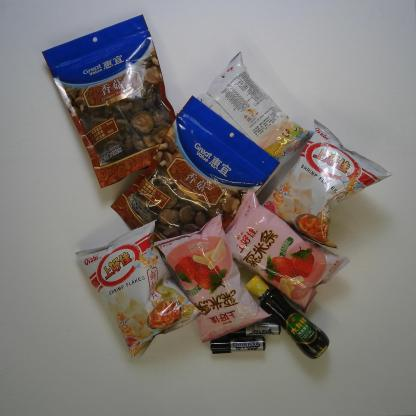Dried Food: (110, 96, 282, 262), (40, 13, 178, 193)
Puffed Food: (72, 219, 206, 368), (193, 51, 315, 201), (257, 117, 393, 250), (222, 184, 356, 317), (151, 212, 274, 348)
Seasoner: (242, 270, 330, 364)
Stationery: (210, 336, 268, 355), (224, 322, 282, 337)
